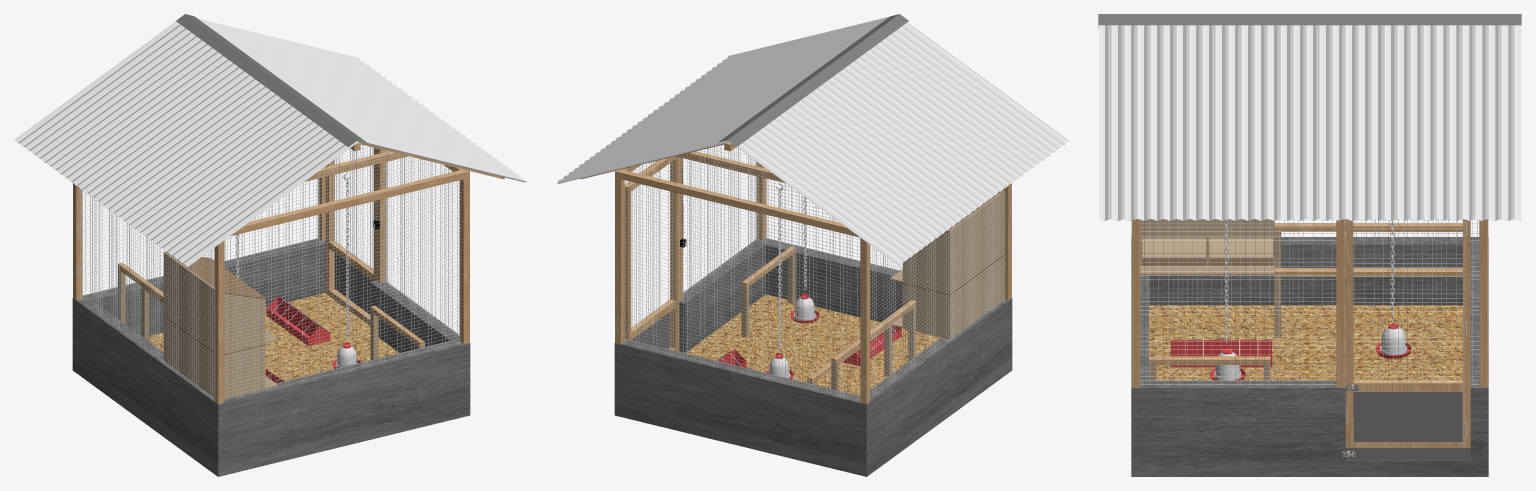
The model's file is 2x2 Dual Purpose.glb.
The picture shows the model from 3 angles, left to right: view 1: azimuth 30°, elevation 25°; view 2: azimuth 150°, elevation 25°; view 3: azimuth 270°, elevation 25°; orthographic projection. The views are drawn at different scales.
Visible parts, largest first — view 1: 0.9m x 6m__0.4mm divide into 4 - Back, Concrete Cement, 0.9m x 6m__0.4mm divide into 4 - Front, Mesh Wire Horizontal 0.025x0.025x0.0016m, Mesh Wire Vertical 0.025x0.025x0.0016m, Rice Hull.001, Mesh Wire Vertical 0.025x0.025x0.0016m.Back, Mesh Wire Horizontal 0.025x0.025x0.0016m.Back, Mesh Wire Vertical 0.025x0.025x0.0016m.Front, Ridge Roll, Wall Plate Left, Left.002 (+21 smaller); view 2: Concrete Cement, 0.9m x 6m__0.4mm divide into 4 - Back, 0.9m x 6m__0.4mm divide into 4 - Front, Mesh Wire Horizontal 0.025x0.025x0.0016m.Right, Rice Hull.001, Mesh Wire Vertical 0.025x0.025x0.0016m.Right, Mesh Wire Vertical 0.025x0.025x0.0016m.Back, Mesh Wire Horizontal 0.025x0.025x0.0016m.Back, Ridge Roll, Mesh Wire Vertical 0.025x0.025x0.0016m.Front, Wall Plate Right, Door Frame (+22 smaller); view 3: 0.9m x 6m__0.4mm divide into 4 - Front, Concrete Cement, Rice Hull.001, Mesh Wire Horizontal 0.025x0.025x0.0016m.Front, Mesh Wire Vertical 0.025x0.025x0.0016m.Front, Door Silver, Ridge Roll, Door Frame, Mesh Wire Horizontal 0.025x0.025x0.0016m.Door, Perch 1 L:0.36m, Size:40mmx40mm, Mesh Wire Vertical 0.025x0.025x0.0016m.Door, Frame (+18 smaller).
Part boxes in pixels (bbox=[...]): 0.9m x 6m__0.4mm divide into 4 - Back: bbox=[14, 21, 358, 267]; Concrete Cement: bbox=[72, 238, 470, 476]; 0.9m x 6m__0.4mm divide into 4 - Front: bbox=[198, 18, 527, 182]; Mesh Wire Horizontal 0.025x0.025x0.0016m: bbox=[225, 145, 461, 399]; Mesh Wire Vertical 0.025x0.025x0.0016m: bbox=[227, 145, 459, 399]; Rice Hull.001: bbox=[146, 293, 398, 380]; Mesh Wire Vertical 0.025x0.025x0.0016m.Back: bbox=[80, 189, 214, 397]; Mesh Wire Horizontal 0.025x0.025x0.0016m.Back: bbox=[79, 189, 214, 397]; Mesh Wire Vertical 0.025x0.025x0.0016m.Front: bbox=[385, 151, 459, 337]; Ridge Roll: bbox=[176, 14, 366, 147]; Wall Plate Left: bbox=[230, 169, 469, 236]; Left.002: bbox=[224, 294, 265, 352]; Concrete Cement: bbox=[614, 238, 1012, 476]; 0.9m x 6m__0.4mm divide into 4 - Back: bbox=[737, 22, 1069, 265]; 0.9m x 6m__0.4mm divide into 4 - Front: bbox=[557, 16, 889, 184]; Mesh Wire Horizontal 0.025x0.025x0.0016m.Right: bbox=[623, 145, 859, 399]; Rice Hull.001: bbox=[680, 294, 940, 395]; Mesh Wire Vertical 0.025x0.025x0.0016m.Right: bbox=[625, 145, 857, 399]; Mesh Wire Vertical 0.025x0.025x0.0016m.Back: bbox=[872, 189, 1003, 396]; Mesh Wire Horizontal 0.025x0.025x0.0016m.Back: bbox=[870, 188, 1005, 396]; Ridge Roll: bbox=[718, 14, 908, 147]; Mesh Wire Vertical 0.025x0.025x0.0016m.Front: bbox=[634, 145, 758, 290]; Wall Plate Right: bbox=[615, 169, 859, 237]; Door Frame: bbox=[630, 156, 677, 350]; 0.9m x 6m__0.4mm divide into 4 - Front: bbox=[1098, 25, 1521, 220]; Concrete Cement: bbox=[1131, 237, 1488, 476]; Rice Hull.001: bbox=[1149, 305, 1462, 438]; Mesh Wire Horizontal 0.025x0.025x0.0016m.Front: bbox=[1140, 223, 1478, 384]; Mesh Wire Vertical 0.025x0.025x0.0016m.Front: bbox=[1144, 219, 1477, 385]; Door Silver: bbox=[1353, 392, 1462, 442]; Ridge Roll: bbox=[1098, 14, 1521, 25]; Door Frame: bbox=[1350, 219, 1465, 447]; Mesh Wire Horizontal 0.025x0.025x0.0016m.Door: bbox=[1353, 219, 1462, 381]; Perch 1 L:0.36m, Size:40mmx40mm: bbox=[1274, 223, 1462, 276]; Mesh Wire Vertical 0.025x0.025x0.0016m.Door: bbox=[1354, 219, 1456, 381]; Frame: bbox=[1345, 219, 1470, 447].
Size of the model in its own units: 2.72 by 2.39 by 2.37.
Materials: 36 (5 with a texture image).
